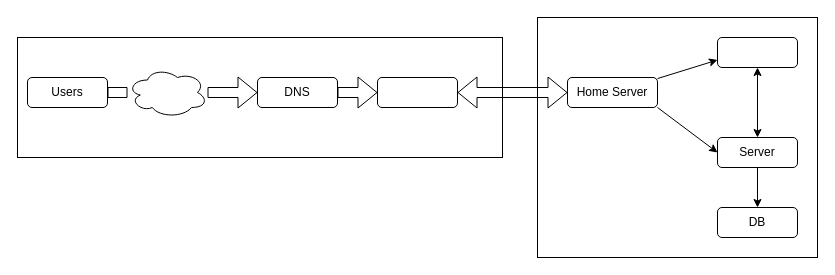
Image size: 835x275. Some labels were removed from this diagram. Here are the shapes that lost their labels. From the top down, the centre of each, then its label:
(757,52): Client
(417,92): CloudFlare
